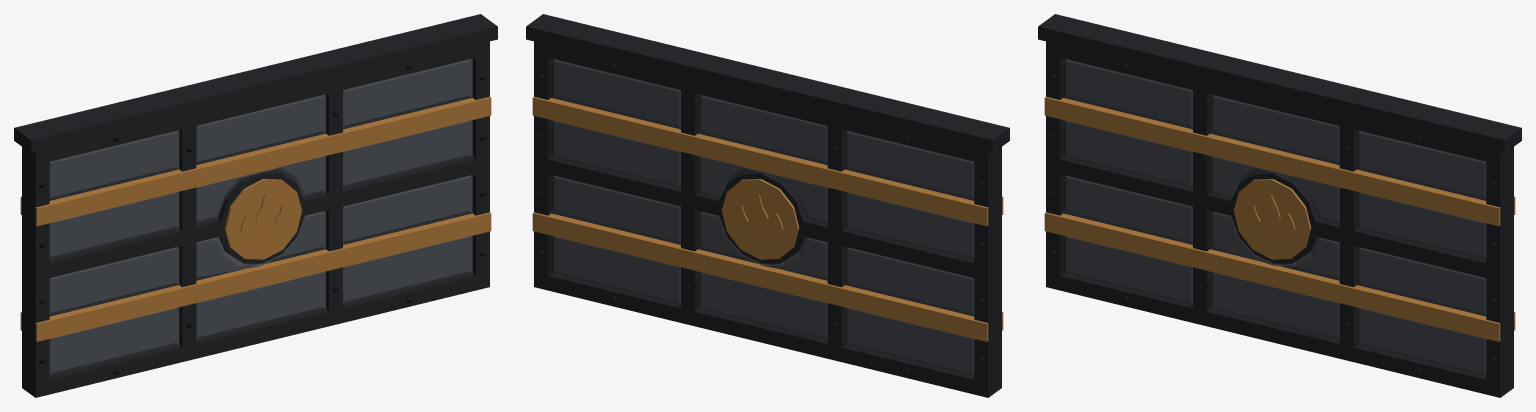
Rendered from iron-wall.glb.
3 views of the same model, side by side, from view 1: azimuth 30°, elevation 25°; view 2: azimuth 150°, elevation 25°; view 3: azimuth 330°, elevation 25° (orthographic).
Parts seen in each view (by area): view 1: Plates, Frame, Bronze, Rivets; view 2: Plates, Frame, Bronze, Rivets; view 3: Plates, Frame, Bronze, Rivets.
Boxes of the visible parts, box(x1,y1,x2,y2) form: Plates: box(49, 58, 472, 376); Frame: box(14, 14, 497, 397); Bronze: box(20, 96, 491, 341); Rivets: box(39, 62, 486, 374); Plates: box(551, 58, 974, 376); Frame: box(526, 14, 1009, 397); Bronze: box(532, 96, 1003, 341); Rivets: box(537, 62, 984, 374); Plates: box(1063, 58, 1486, 376); Frame: box(1038, 14, 1521, 397); Bronze: box(1044, 96, 1515, 341); Rivets: box(1049, 62, 1496, 374).
Bounding box in the file's own units: 30 × 16 × 2.
